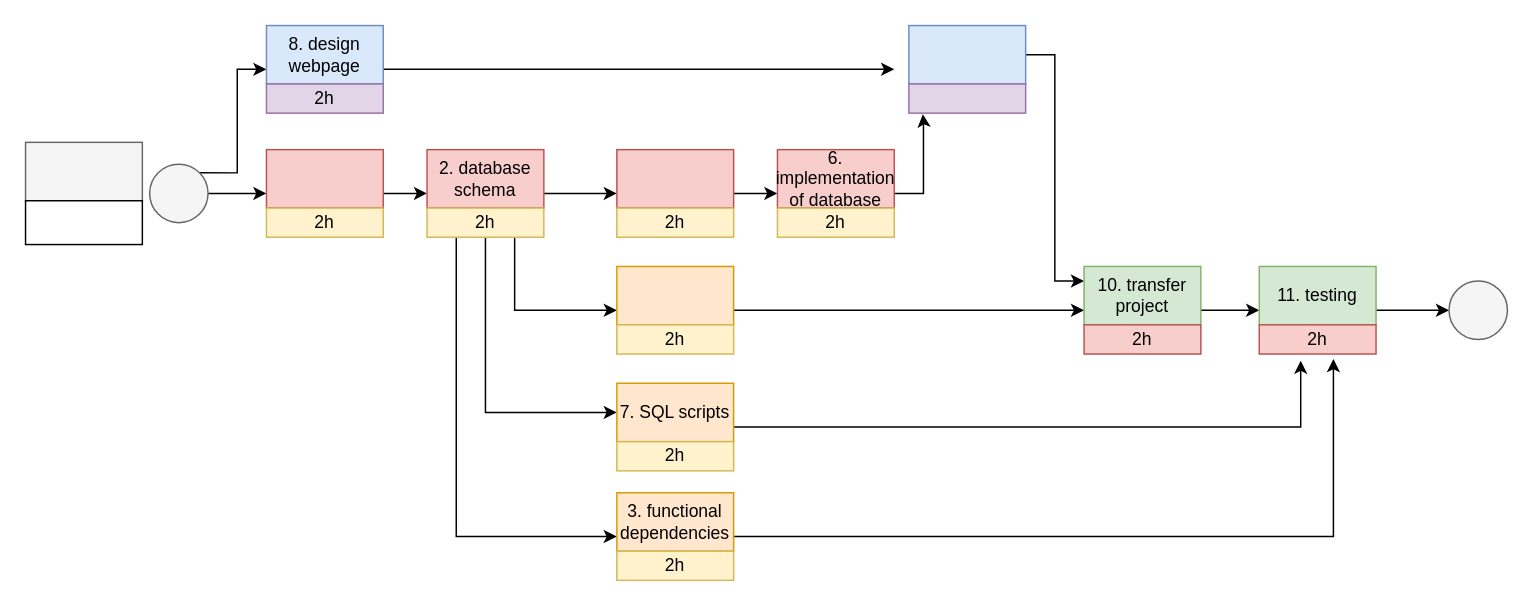
Some shapes in this 1533 by 606 pixel diagram are drawn without their labels. Here are the shapes that lost their labels. From the top down, the centre of each, then its label:
the point at 966,54: 9. implement web
the point at 966,97: 4h
the point at 83,171: task name
the point at 324,178: 1. ER model
the point at 674,178: 4. sql declaration
the point at 178,193: start
the point at 83,222: estimated time
the point at 674,295: 5. relation instances
the point at 1477,309: done
